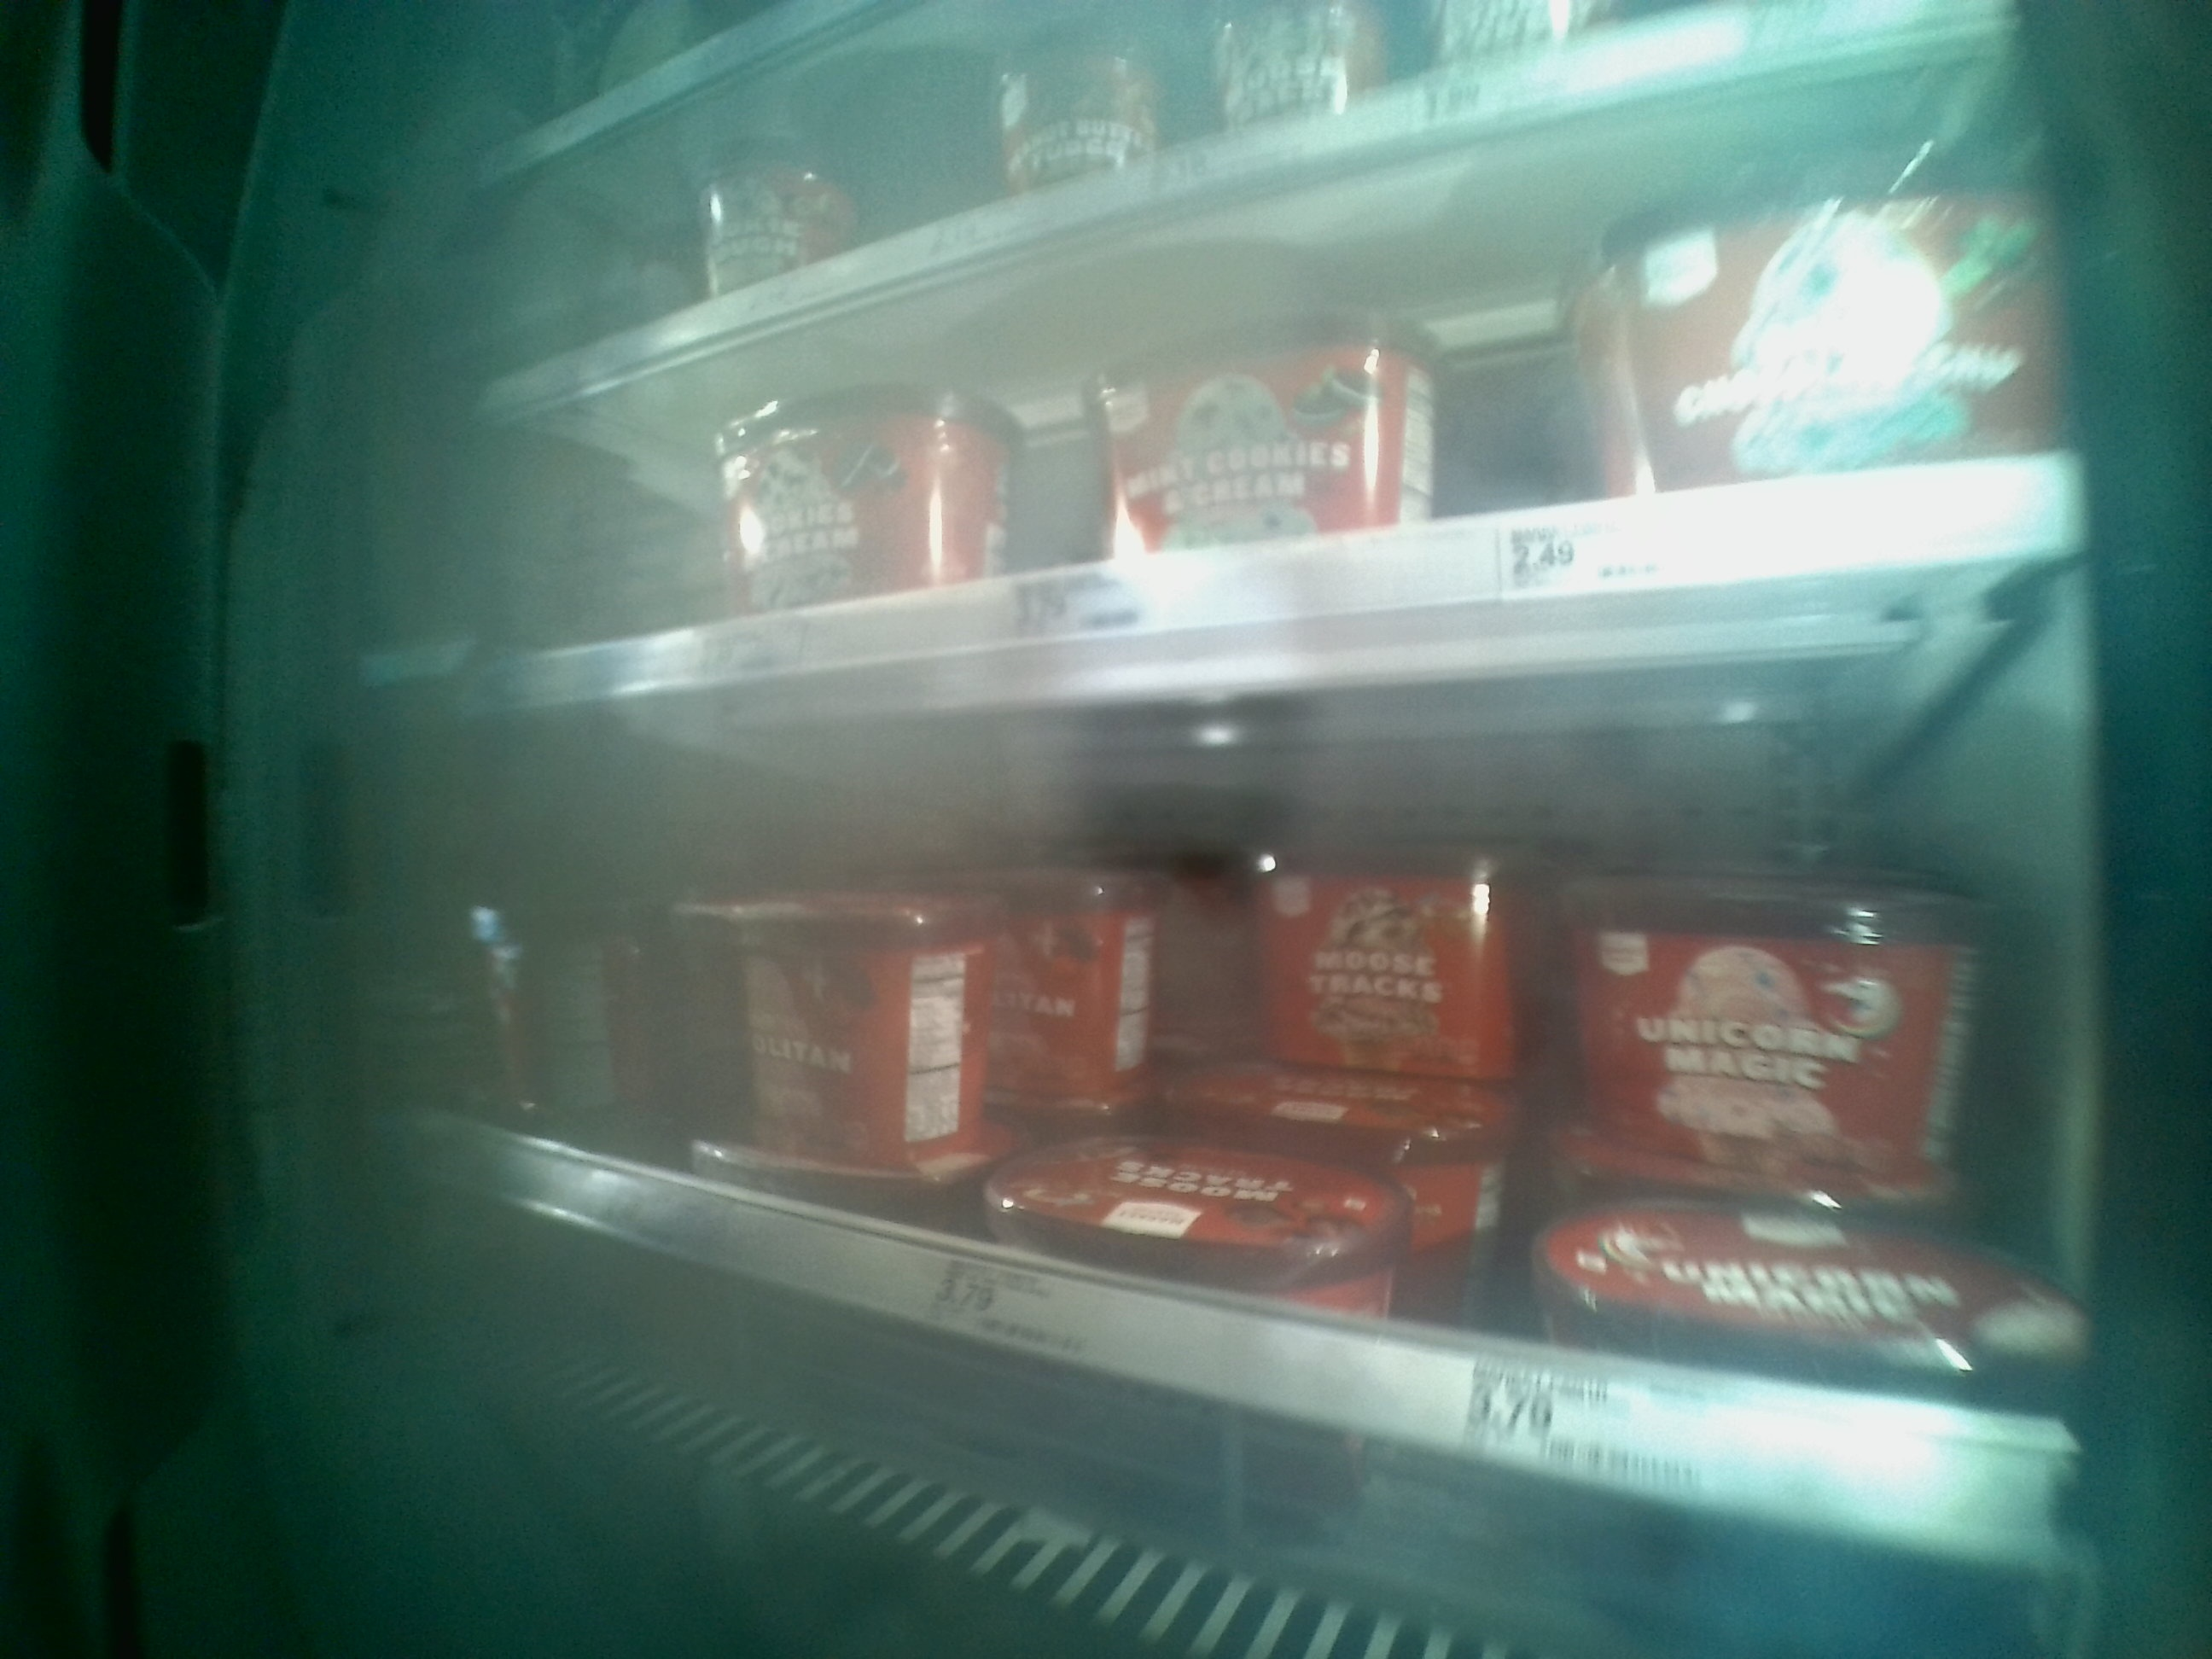shelf: (449, 551, 2085, 1572)
